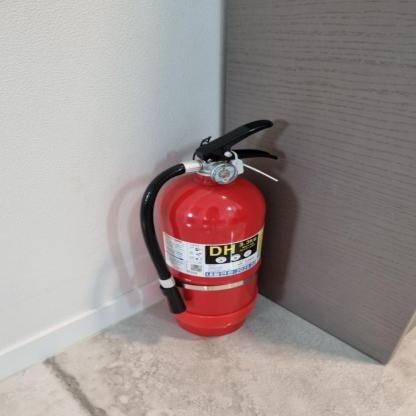Fire Extinguisher: (138, 101, 292, 356)
